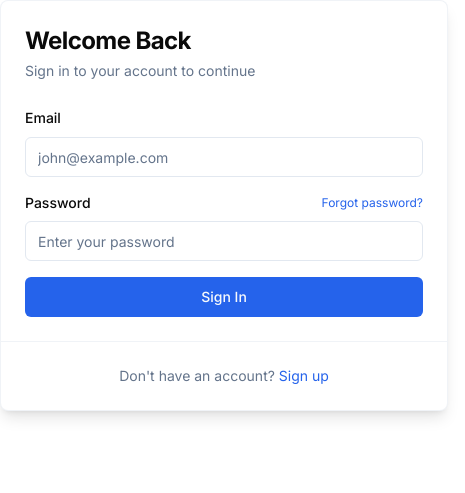
LoginForm › shows validation errors for short password
This screenshot has width=465, height=493.
In the password field labelled "Password": (224,241) [25, 221, 423, 261], type "123"
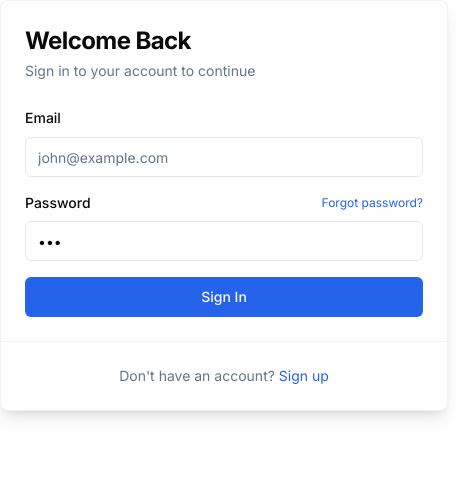
Click the button "Sign In": (224,297) [25, 277, 423, 317]
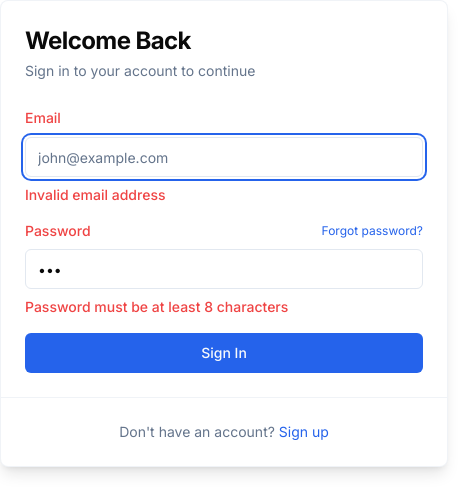
Expected: the text "Password must be at least 8 characters" is shown, [25, 298, 288, 315]
